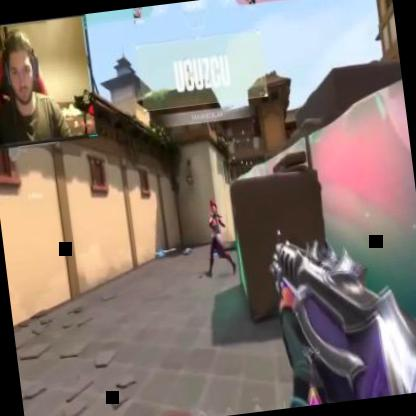enemy: (195, 196, 237, 276)
enemy_head: (208, 198, 218, 214)
